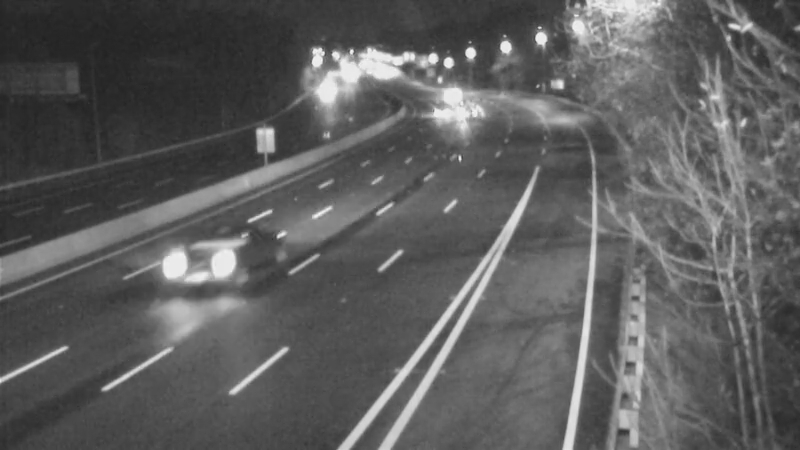vehicle: (165, 221, 245, 301), (420, 66, 470, 116), (420, 80, 470, 130), (448, 81, 498, 131)
